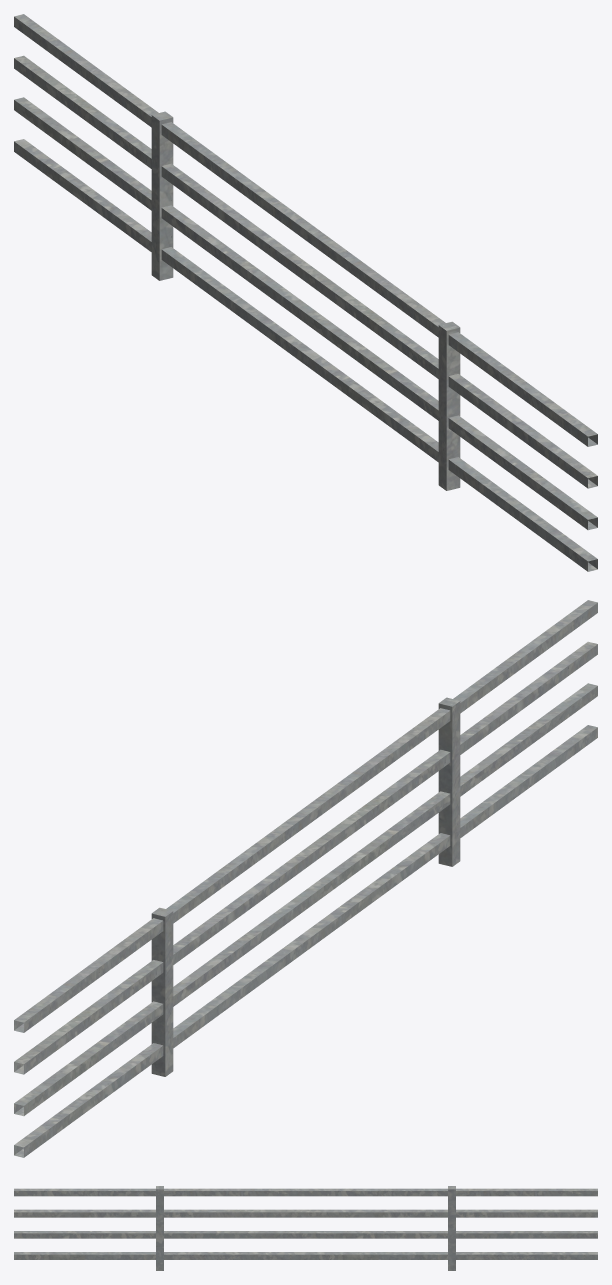
Rendered from GSDRailing3.FBX.
3 renders of one model, top to bottom at view 1: azimuth 30°, elevation 25°; view 2: azimuth 150°, elevation 25°; view 3: azimuth 270°, elevation 25°, orthographic. The views are drawn at different scales.
Visible parts, largest first — view 1: GSDRailing3; view 2: GSDRailing3; view 3: GSDRailing3.
Part boxes in pixels (x1=…): GSDRailing3: x1=14, y1=14, x2=597, y2=571; GSDRailing3: x1=14, y1=600, x2=597, y2=1157; GSDRailing3: x1=14, y1=1186, x2=597, y2=1270.
Size of the model in its own units: 0.07 by 0.77 by 5.
